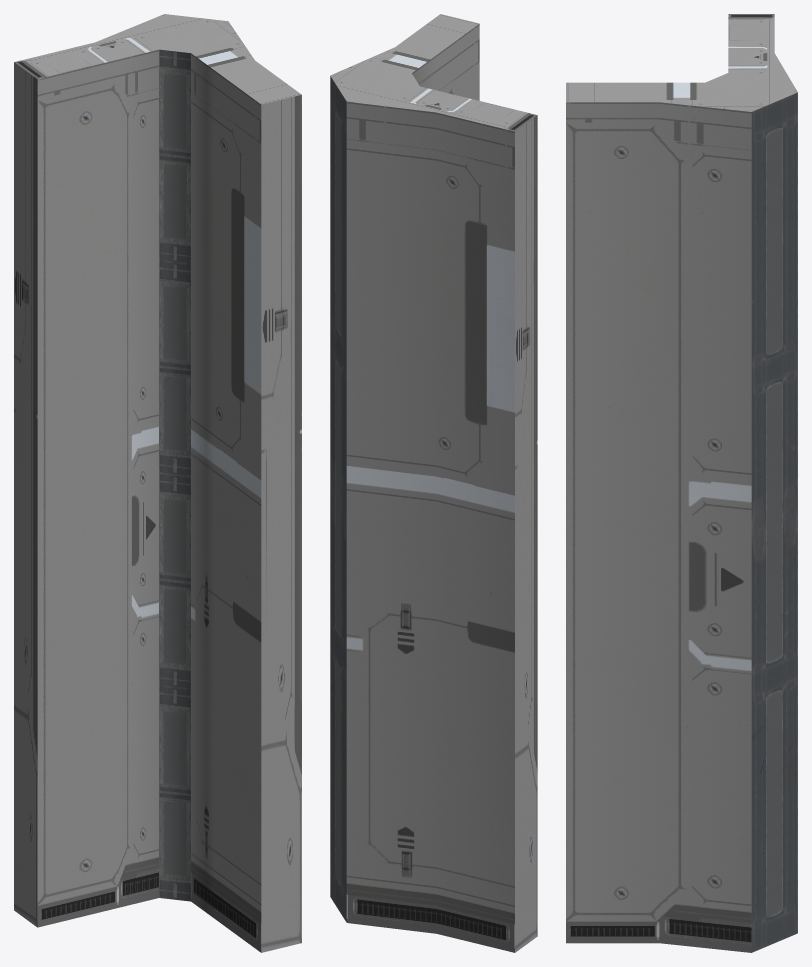
Rendered from SM_Walls_CURVED11.fbx.
3 renders of one model, left to right at view 1: azimuth 30°, elevation 25°; view 2: azimuth 150°, elevation 25°; view 3: azimuth 270°, elevation 25°, orthographic. The views are drawn at different scales.
Visible parts, largest first — view 1: SM_Walls_CURVED11_LOD0; view 2: SM_Walls_CURVED11_LOD0; view 3: SM_Walls_CURVED11_LOD0.
Part boxes in pixels (left/top/right/bottom): SM_Walls_CURVED11_LOD0: left=14, top=14, right=301, bottom=952; SM_Walls_CURVED11_LOD0: left=330, top=14, right=537, bottom=952; SM_Walls_CURVED11_LOD0: left=566, top=14, right=797, bottom=952.
Size of the model in its own units: 100 by 100 by 400.
2 materials, 2 textured.
